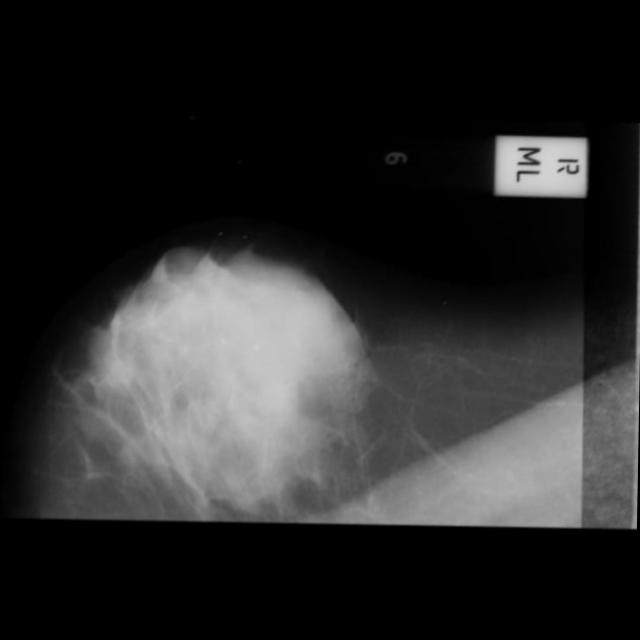CIRC: (132, 268, 218, 355)
